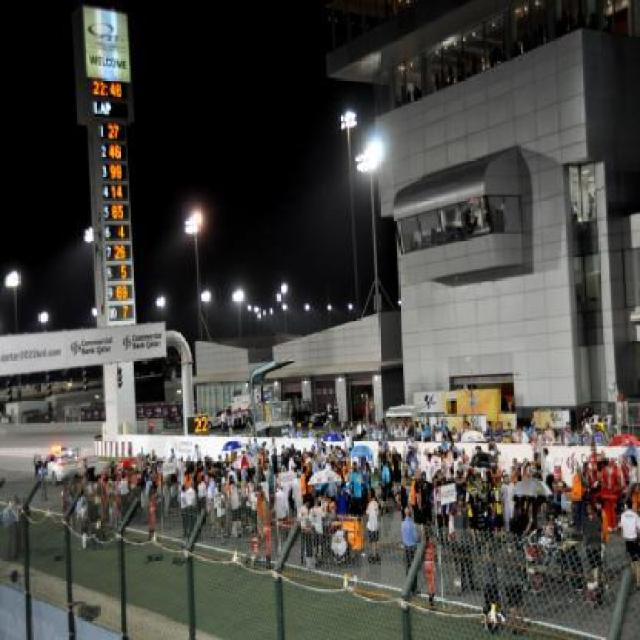Person: (166, 438, 266, 542), (63, 442, 159, 546), (409, 440, 493, 548), (268, 439, 344, 506), (576, 456, 622, 536), (500, 448, 538, 522), (337, 420, 458, 442), (495, 528, 520, 630), (506, 422, 605, 446), (622, 498, 640, 590), (402, 506, 420, 596), (478, 535, 496, 622), (578, 503, 599, 577), (376, 439, 401, 499), (363, 488, 380, 560), (595, 493, 608, 581), (310, 497, 327, 560), (426, 525, 436, 609), (298, 496, 310, 561), (148, 484, 162, 539), (346, 465, 362, 512), (272, 482, 288, 528), (544, 447, 556, 496), (254, 482, 264, 540), (381, 461, 392, 512), (187, 478, 196, 540), (627, 455, 639, 499), (4, 500, 13, 555), (265, 498, 272, 567), (335, 479, 348, 512), (40, 462, 49, 500), (364, 463, 371, 509), (180, 487, 186, 535), (484, 418, 494, 438), (492, 422, 500, 441), (282, 422, 290, 440), (295, 420, 303, 438), (308, 418, 315, 438)
